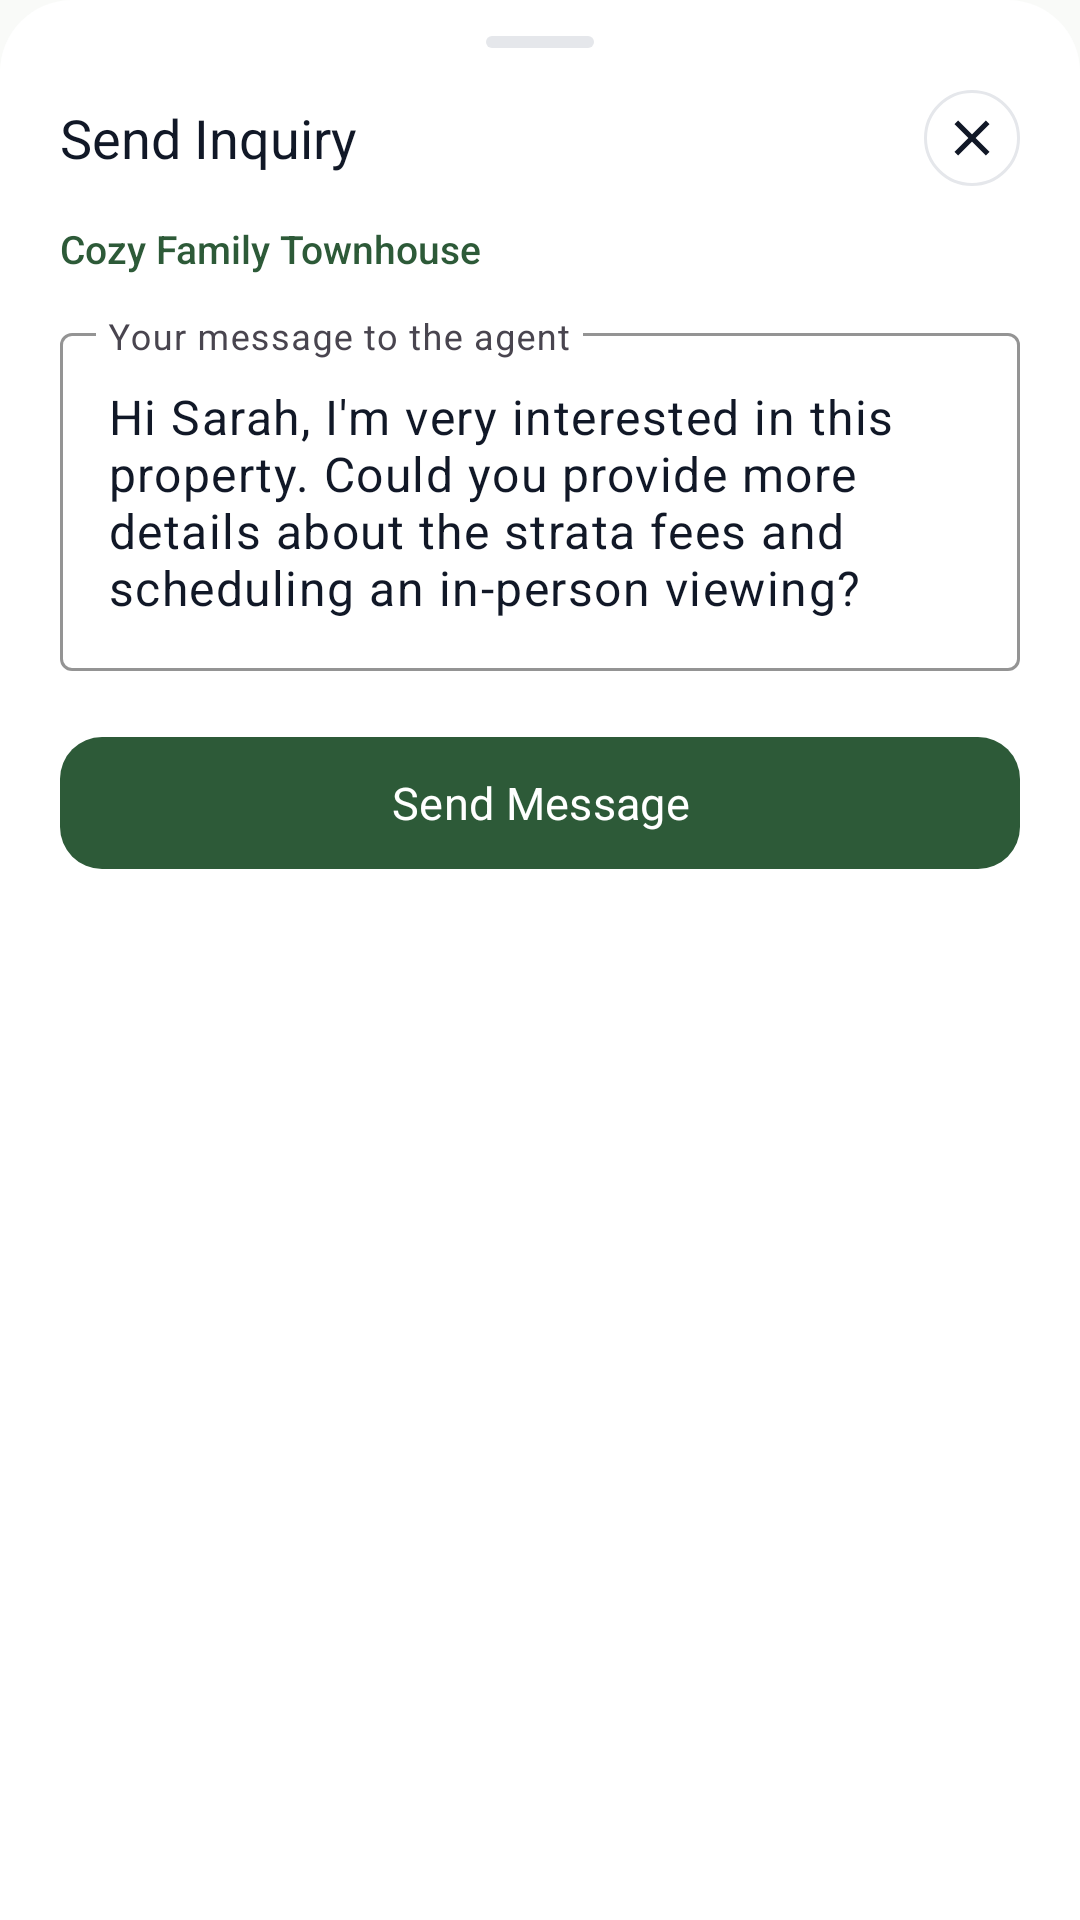

Point at icon controls on the screen. Image size 1080w x 1920h, points as [x,y].
Close: [972,138]
